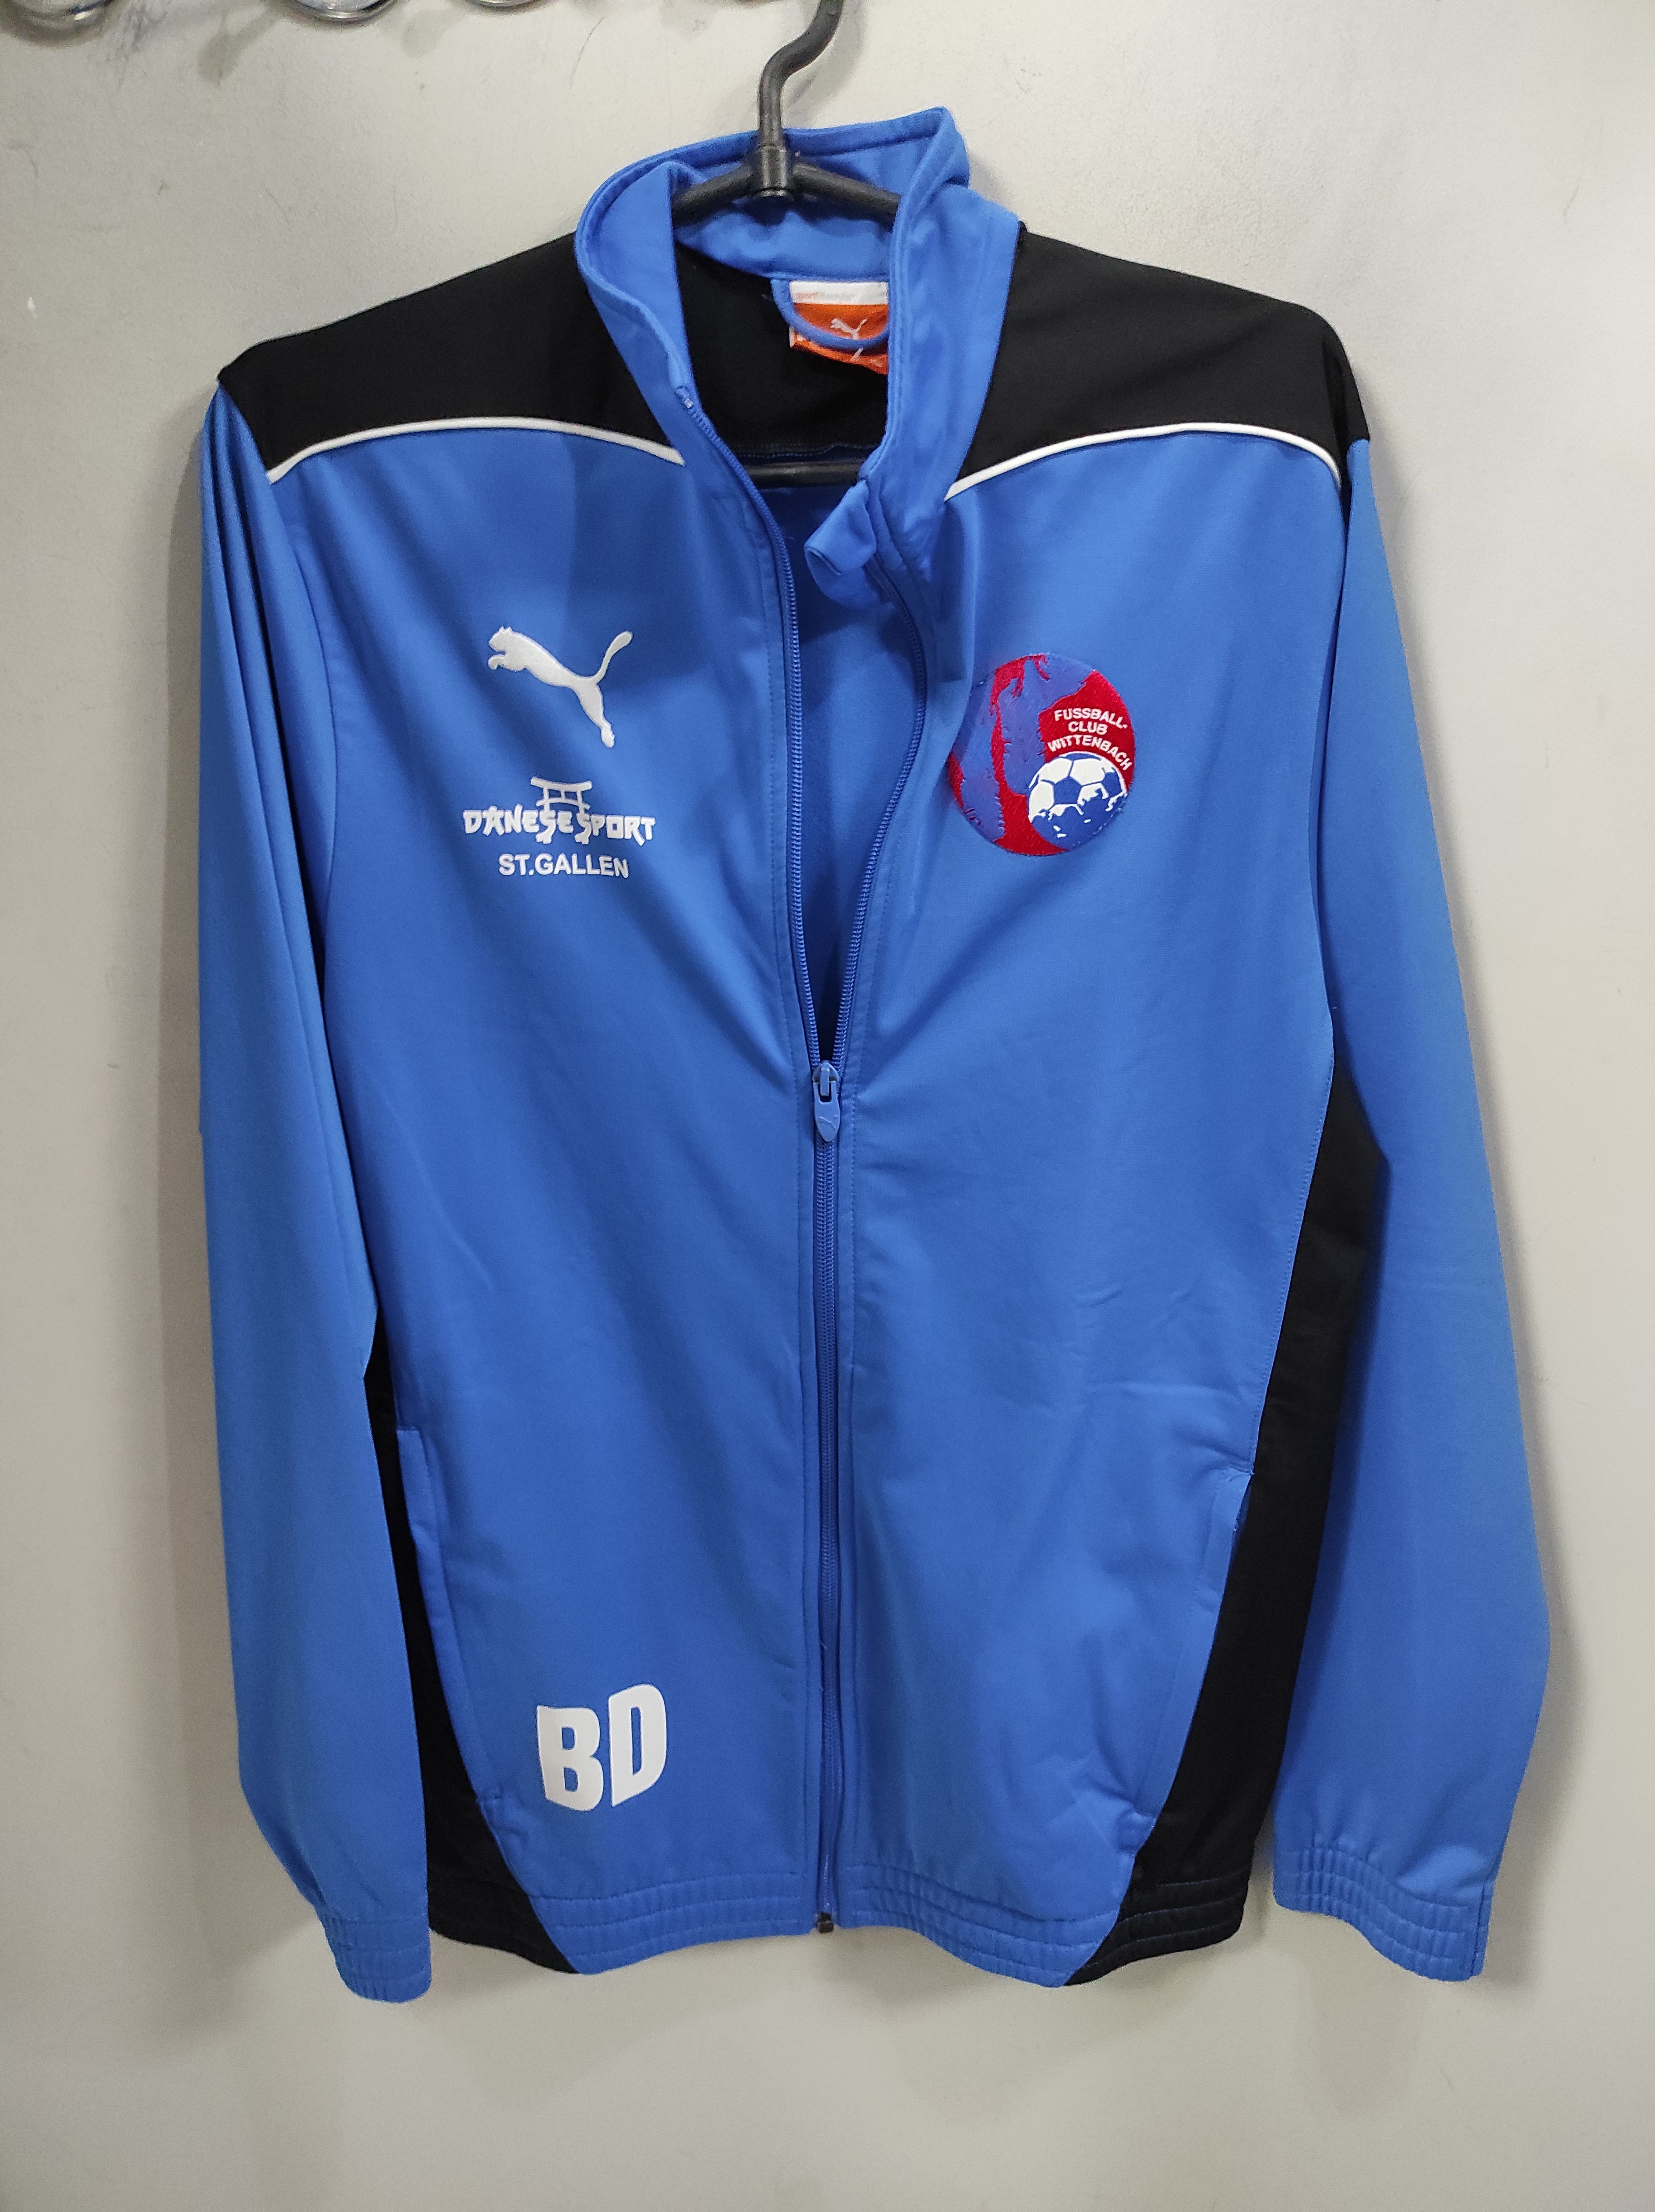clothes: (165, 96, 1544, 1986)
